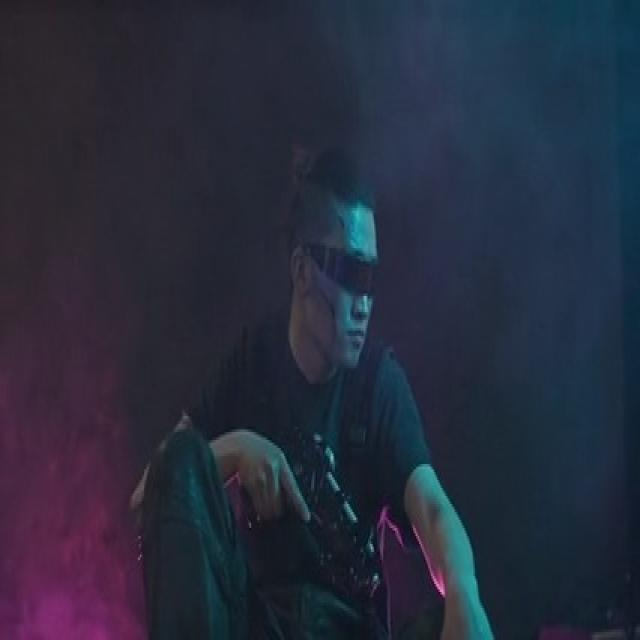Gun_Holder: (224, 387, 378, 609)
Person: (127, 132, 502, 640)
